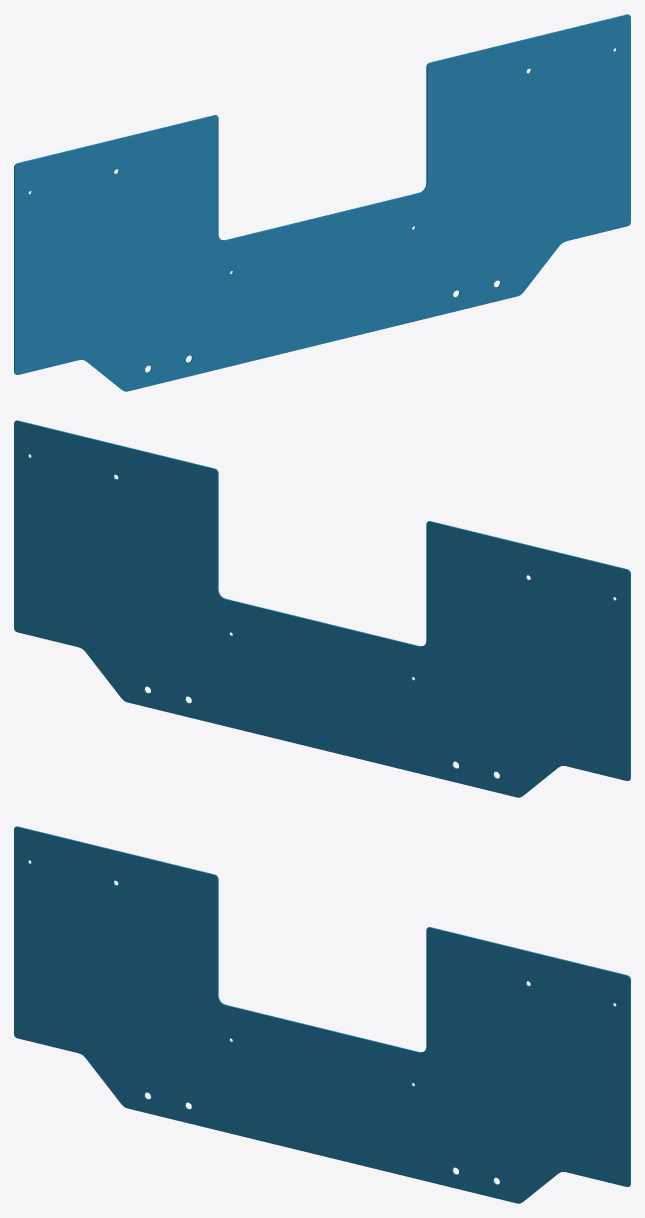
3 views of the same model, one above another, from view 1: azimuth 30°, elevation 25°; view 2: azimuth 150°, elevation 25°; view 3: azimuth 330°, elevation 25° (orthographic).
Visible parts, largest first — view 1: mesh11567; view 2: mesh11566; view 3: mesh11567.
Boxes of the visible parts, <box> form: mesh11567: <box>14,15,630,391</box>; mesh11566: <box>14,421,630,797</box>; mesh11567: <box>14,827,630,1203</box>.
Bounding box in the file's own units: 0.575 × 0.227 × 0.0013.
